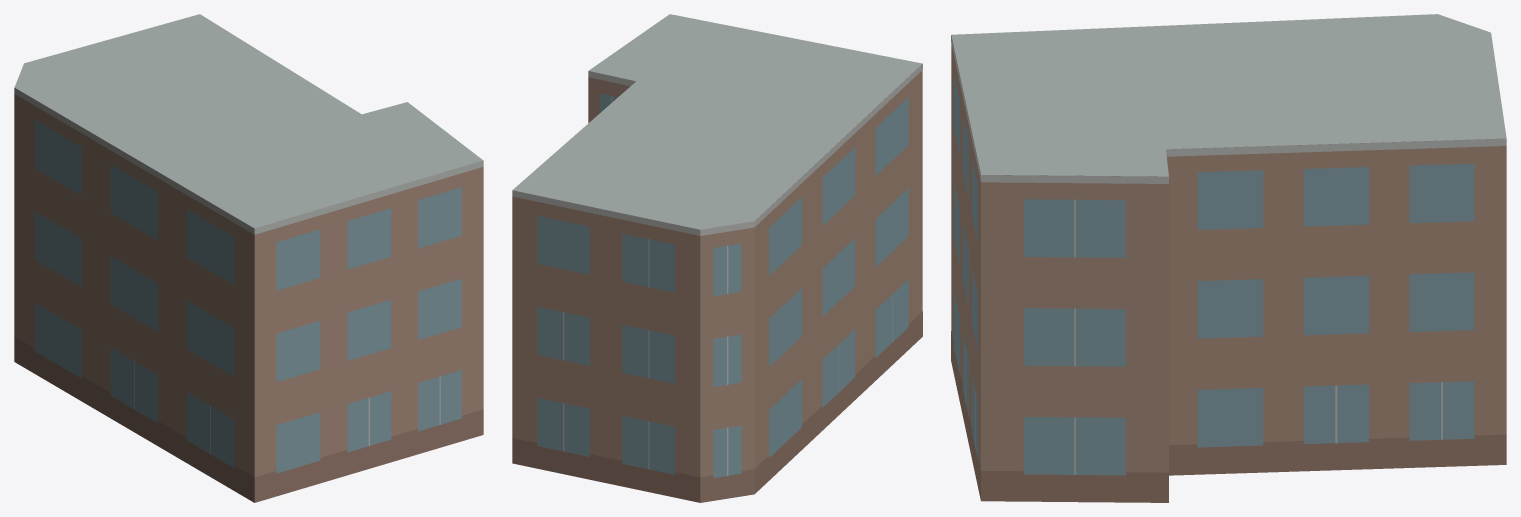
File: survey-upis-32481880.glb
The picture shows the model from 3 angles, left to right: view 1: azimuth 30°, elevation 25°; view 2: azimuth 150°, elevation 25°; view 3: azimuth 270°, elevation 25°; orthographic projection. The views are drawn at different scales.
Parts seen in each view (by area): view 1: survey-upis-32481880.tmp; view 2: survey-upis-32481880.tmp; view 3: survey-upis-32481880.tmp.
Part boxes in pixels (box(x1,y1,x2,y2)): survey-upis-32481880.tmp: box(14, 14, 483, 502); survey-upis-32481880.tmp: box(512, 14, 922, 502); survey-upis-32481880.tmp: box(951, 14, 1506, 502).
Size of the model in its own units: 11.39 by 10.65 by 16.44.
